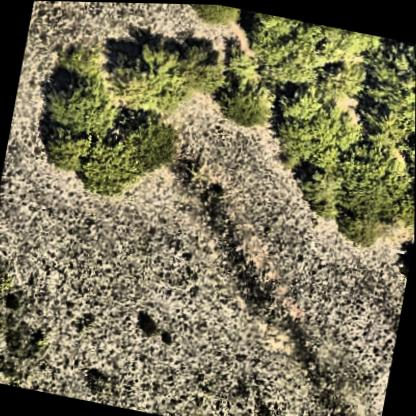tree-top: (240, 9, 373, 99), (32, 120, 144, 201), (103, 24, 193, 112), (354, 32, 416, 145), (266, 87, 350, 170), (36, 63, 119, 141), (331, 134, 412, 209), (118, 105, 184, 181), (175, 30, 231, 102), (308, 48, 372, 105), (212, 74, 271, 131), (289, 164, 348, 220), (329, 193, 384, 246), (225, 39, 261, 83), (185, 3, 244, 25)
